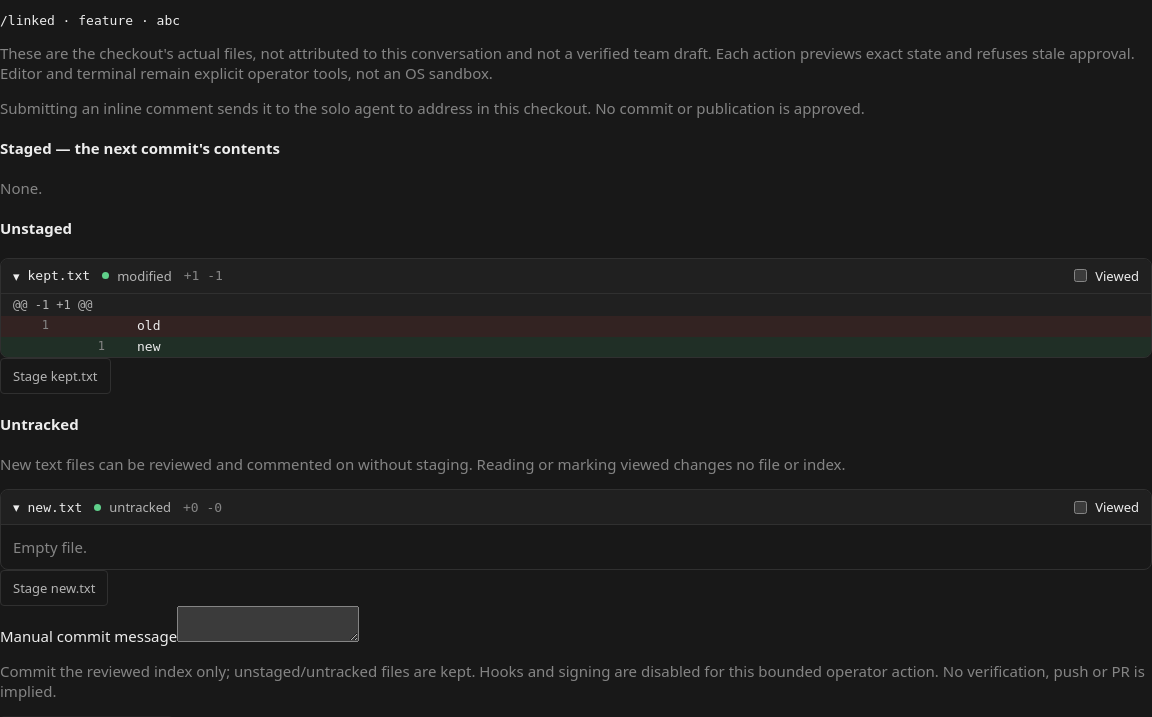
Test: keeps a historical-format preview readable without treating an unrecorded epoch as current
The image size is (1152, 717).
Click the button "Stage new.txt".
click(54, 588)  # box [0,570,108,606]
(page scrolled)
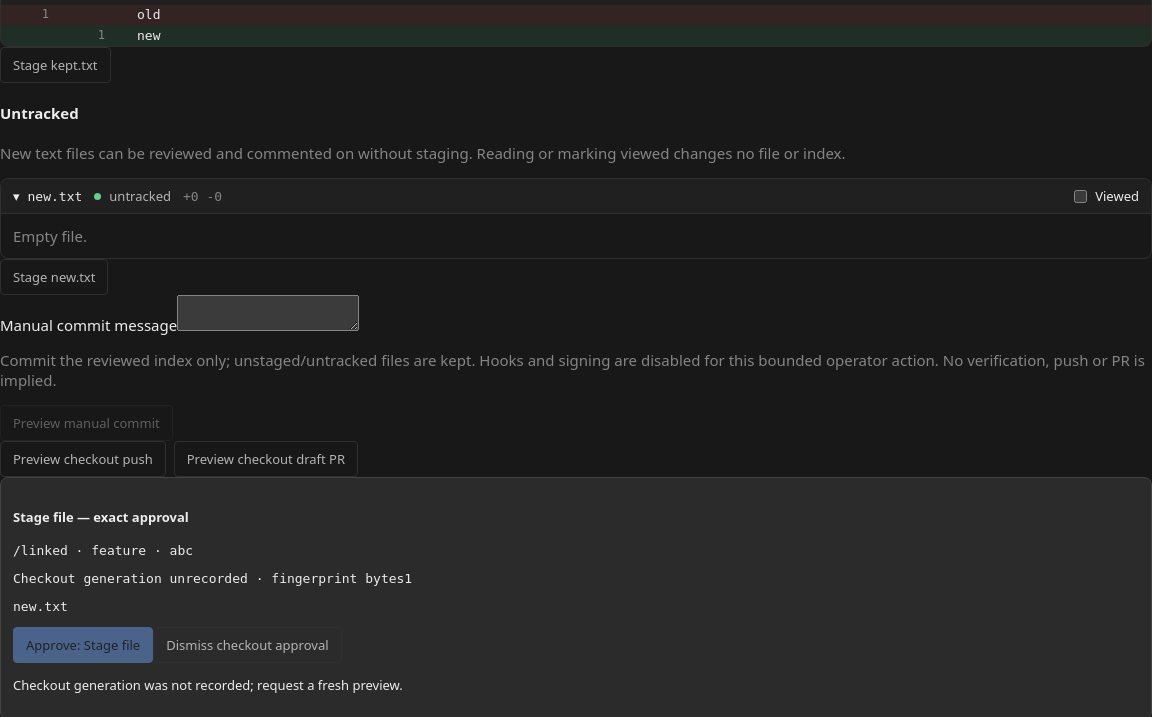
Now the text "Checkout generation was not recorded" is shown, box [13,676,403,694]
Now the button "Approve: Stage file" is disabled, box [13,627,153,663]
